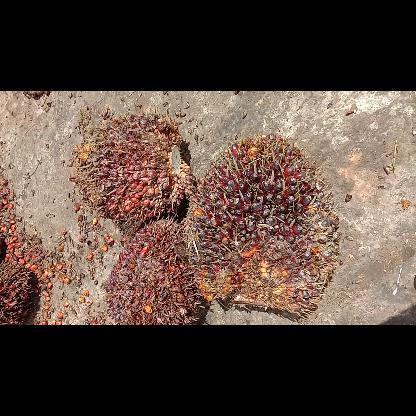Kurang masak: (72, 113, 192, 231)
TBS masak: (185, 133, 341, 321), (104, 216, 210, 324)
